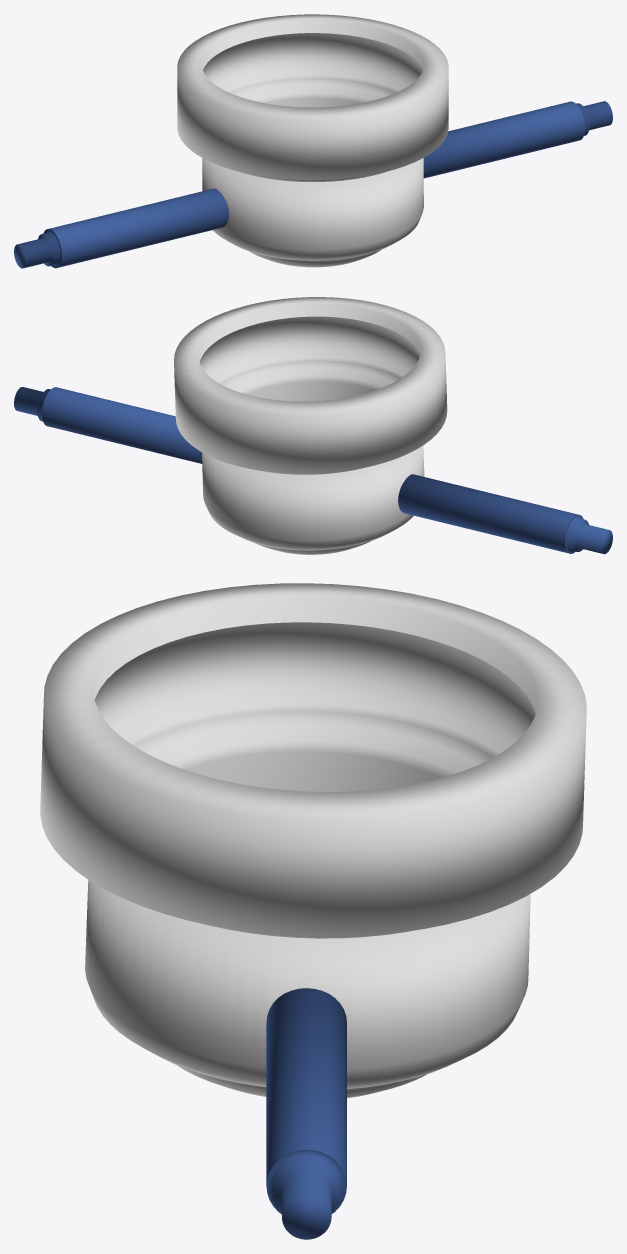
Rendered from lamp_connector.fbx.
The picture shows the model from 3 angles, top to bottom: view 1: azimuth 30°, elevation 25°; view 2: azimuth 150°, elevation 25°; view 3: azimuth 270°, elevation 25°; orthographic projection. The views are drawn at different scales.
Parts seen in each view (by area): view 1: lamp_base, wire, connector; view 2: lamp_base, wire, connector; view 3: lamp_base, wire, connector.
Boxes of the visible parts, bbox=[...] form: lamp_base: bbox=[177, 14, 448, 267]; wire: bbox=[49, 101, 584, 267]; connector: bbox=[14, 101, 612, 268]; lamp_base: bbox=[174, 297, 447, 554]; wire: bbox=[42, 387, 577, 553]; connector: bbox=[14, 387, 612, 554]; lamp_base: bbox=[40, 583, 586, 1098]; wire: bbox=[266, 988, 346, 1185]; connector: bbox=[266, 1149, 346, 1239].
Size of the model in its own units: 337 by 101 by 136.
